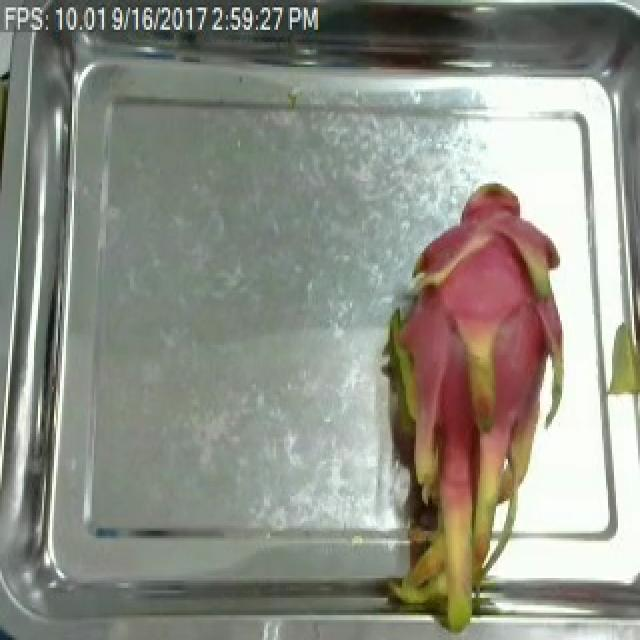fruit: (348, 203, 604, 635)
